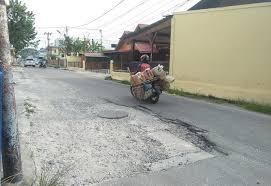Pothole: (80, 84, 216, 180)
